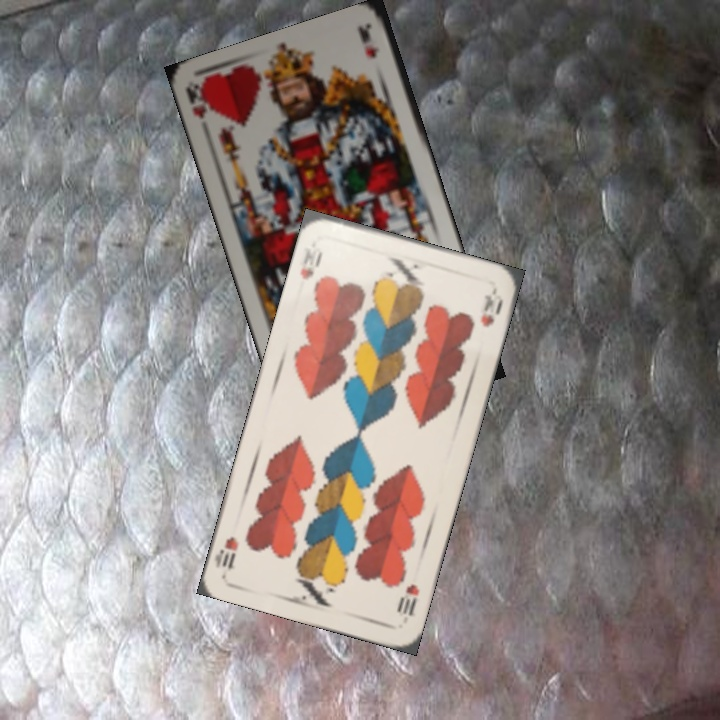H10: (296, 243, 325, 282), (393, 580, 422, 619)
HK: (182, 81, 214, 121)
